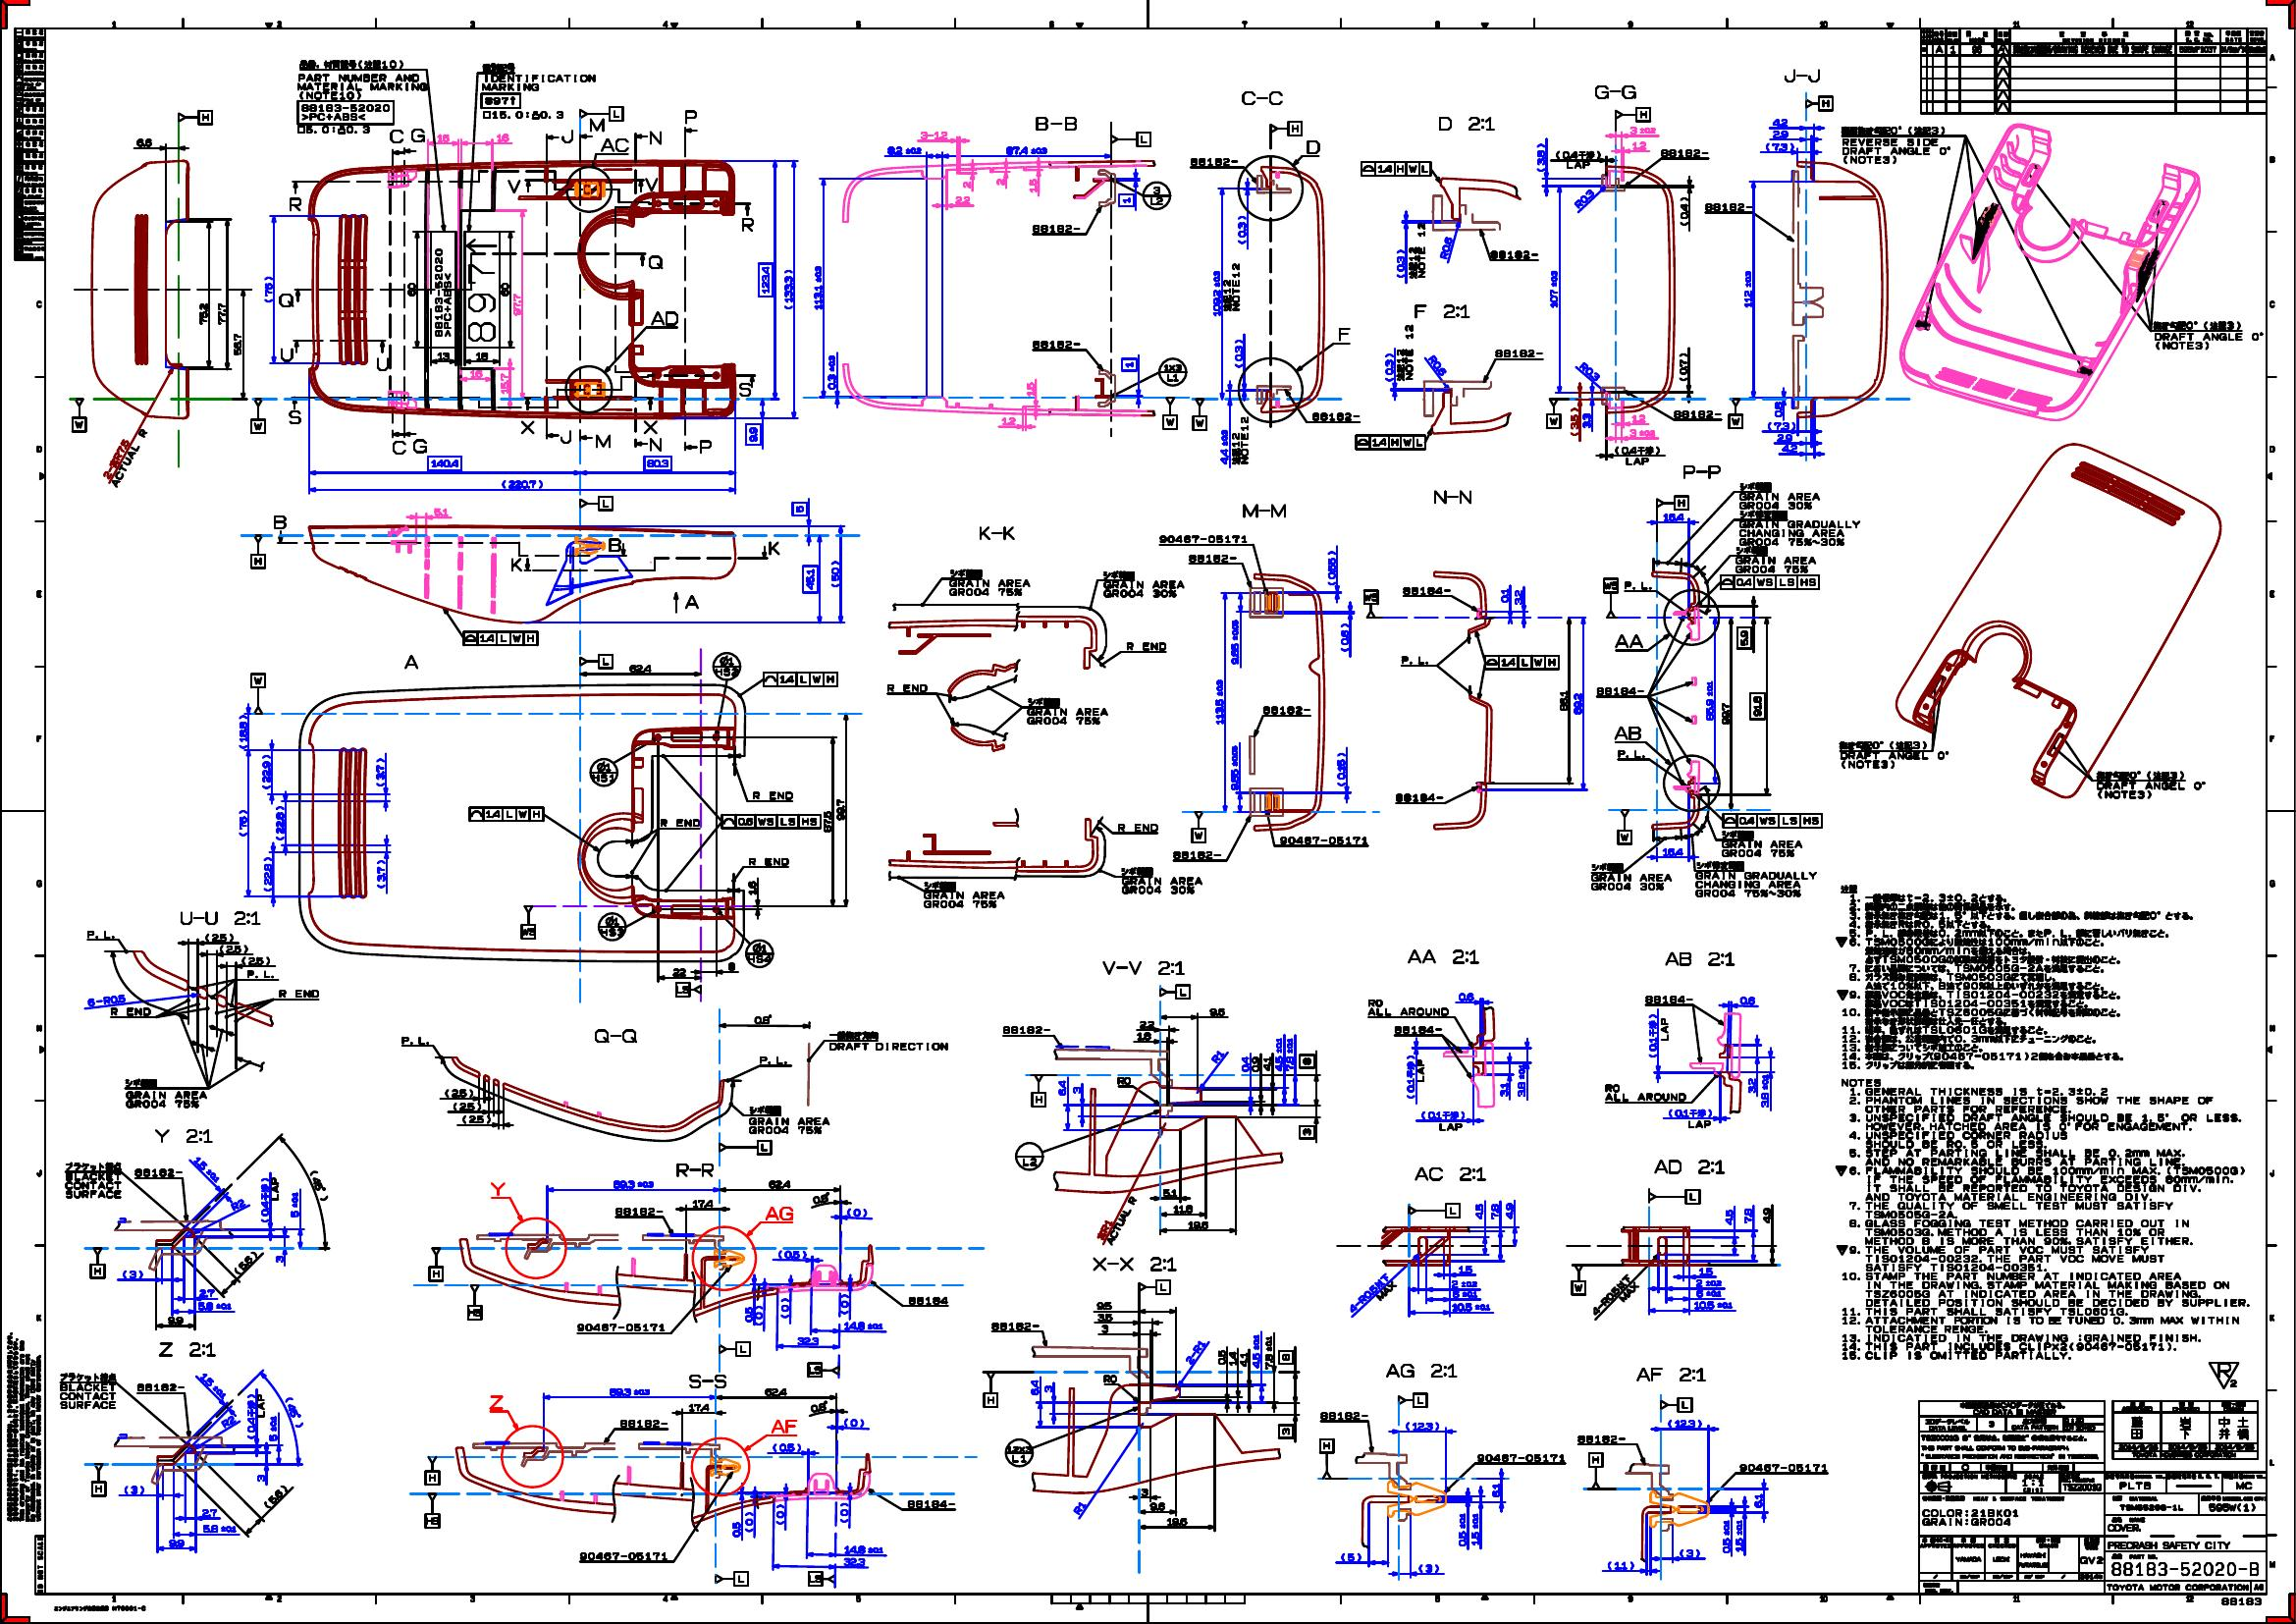anntotation_text: (1834, 1076, 2252, 1360), (1832, 882, 2196, 1070), (295, 56, 429, 134), (5, 1332, 42, 1522), (480, 63, 597, 121), (1693, 861, 1818, 898), (1739, 510, 1860, 547), (1841, 127, 1952, 165), (2094, 768, 2208, 798), (2152, 320, 2264, 350), (1838, 738, 1950, 768), (827, 1028, 950, 1051), (123, 1077, 207, 1109), (1590, 861, 1672, 891), (748, 1104, 831, 1134), (1119, 866, 1203, 895), (949, 568, 1031, 596), (1103, 569, 1186, 598), (922, 881, 1005, 909), (1739, 482, 1822, 508), (1734, 547, 1816, 573), (1026, 698, 1108, 724), (58, 1373, 116, 1410), (63, 1162, 121, 1199), (1722, 831, 1802, 858), (1718, 575, 1818, 591), (1100, 958, 1186, 975), (1367, 998, 1451, 1016), (1604, 1083, 1688, 1100), (1384, 1360, 1458, 1380), (1723, 812, 1823, 826), (1664, 949, 1736, 968), (91, 445, 156, 466), (1651, 1158, 1727, 1176), (1342, 1287, 1400, 1309), (179, 909, 260, 924), (1407, 947, 1479, 965), (1414, 1165, 1486, 1183), (1635, 1366, 1706, 1383), (720, 816, 820, 828), (1087, 1207, 1145, 1229), (1091, 1257, 1177, 1271), (462, 631, 538, 647), (469, 805, 543, 821), (156, 1339, 216, 1359), (1354, 434, 1426, 450), (1360, 160, 1432, 176), (1583, 1290, 1641, 1309), (1483, 654, 1560, 668), (1395, 323, 1414, 380), (764, 671, 838, 685), (1412, 302, 1470, 320), (1437, 114, 1495, 132), (155, 1127, 213, 1144), (1421, 1109, 1465, 1132), (1613, 445, 1660, 466), (1014, 1141, 1045, 1172), (1409, 223, 1426, 279), (1221, 262, 1240, 313), (1230, 415, 1249, 466), (574, 1322, 666, 1332), (1555, 149, 1600, 170), (1158, 533, 1247, 543), (580, 1550, 669, 1561), (1476, 1452, 1565, 1462), (588, 758, 620, 787), (2208, 1360, 2242, 1388), (1648, 1014, 1669, 1058), (246, 1392, 265, 1439), (1158, 357, 1188, 387), (711, 650, 741, 680), (1405, 1055, 1425, 1100), (1667, 1109, 1713, 1128), (1005, 1438, 1033, 1468), (1142, 181, 1172, 209), (597, 912, 627, 940), (1407, 1202, 1460, 1218), (592, 1026, 639, 1044), (262, 1176, 279, 1223), (1033, 114, 1079, 132), (745, 939, 773, 967), (1279, 835, 1368, 844), (1739, 1462, 1829, 1471), (1593, 83, 1637, 100), (1240, 503, 1288, 518), (718, 1141, 771, 1155), (673, 1160, 715, 1178), (578, 105, 624, 121), (1648, 1190, 1699, 1204), (1681, 464, 1722, 482), (1318, 1438, 1335, 1478), (1240, 90, 1284, 105), (53, 1605, 148, 1612), (1432, 489, 1474, 504), (1602, 576, 1618, 617), (249, 673, 265, 714), (35, 1534, 46, 1594), (1614, 105, 1650, 123), (977, 524, 1015, 540), (1110, 130, 1149, 146), (1031, 221, 1080, 234), (90, 1462, 107, 1496), (982, 1371, 998, 1408), (177, 109, 213, 125), (1616, 808, 1632, 844), (466, 1283, 481, 1318), (806, 1360, 838, 1378), (423, 1492, 439, 1527), (1161, 397, 1179, 429), (1270, 120, 1302, 137), (249, 534, 265, 569), (1783, 69, 1822, 83), (1400, 585, 1451, 596), (989, 1320, 1040, 1330), (1319, 1410, 1370, 1420), (613, 1206, 664, 1216), (1576, 1434, 1627, 1445), (1643, 993, 1693, 1004), (70, 399, 86, 432), (249, 399, 265, 432), (427, 1248, 443, 1281), (715, 1571, 748, 1587), (1029, 1074, 1045, 1107), (1660, 1397, 1693, 1413), (1191, 397, 1207, 431), (520, 905, 536, 939), (1189, 812, 1207, 842), (1597, 685, 1646, 696), (1588, 1452, 1602, 1489), (1031, 339, 1080, 350), (1495, 348, 1544, 359), (1490, 248, 1539, 258), (1660, 148, 1709, 158), (134, 1167, 183, 1178), (648, 311, 680, 327), (1704, 202, 1751, 213), (1727, 397, 1743, 429), (1613, 633, 1644, 649), (1263, 705, 1310, 715), (1191, 156, 1238, 167), (687, 1374, 727, 1387), (1613, 724, 1641, 742), (764, 1204, 792, 1222), (1003, 1025, 1049, 1035), (2219, 1596, 2264, 1606), (1546, 399, 1562, 429), (423, 1455, 439, 1485), (1569, 1265, 1585, 1295), (90, 1248, 105, 1278), (599, 137, 629, 153), (580, 496, 613, 510), (1657, 496, 1690, 510), (580, 654, 613, 668), (1393, 793, 1444, 801), (1172, 851, 1223, 859), (1188, 554, 1238, 562), (1124, 640, 1166, 650), (1138, 1280, 1170, 1294), (1398, 1392, 1426, 1408), (750, 789, 792, 800), (747, 856, 789, 866), (1672, 411, 1722, 420), (906, 1499, 956, 1508), (1393, 1025, 1442, 1033), (86, 995, 126, 1005), (720, 1341, 750, 1355), (806, 1571, 836, 1585), (1159, 984, 1189, 998), (1806, 95, 1832, 111), (1363, 591, 1379, 617), (620, 1418, 668, 1427), (771, 1418, 798, 1434), (137, 1383, 184, 1392), (1312, 411, 1360, 420), (675, 981, 701, 997), (661, 817, 699, 828), (885, 682, 928, 691), (109, 1007, 151, 1016), (278, 990, 320, 998), (86, 928, 116, 940), (908, 1295, 949, 1304), (1117, 823, 1158, 831), (757, 1055, 789, 1065), (1616, 749, 1646, 759), (1623, 580, 1651, 591), (399, 1035, 430, 1044), (1400, 656, 1430, 664), (559, 429, 574, 445), (596, 431, 611, 446), (641, 420, 657, 436), (646, 438, 662, 453), (697, 438, 713, 453), (738, 381, 754, 397), (646, 255, 662, 271), (740, 216, 755, 232), (413, 438, 429, 453), (388, 439, 404, 455), (376, 357, 392, 373), (279, 346, 295, 362), (488, 1394, 504, 1410), (288, 410, 304, 425), (271, 513, 286, 529), (404, 654, 420, 670), (506, 557, 522, 573), (608, 536, 624, 552), (683, 594, 699, 610), (766, 540, 782, 555), (286, 195, 302, 211), (388, 128, 404, 144), (411, 128, 427, 144), (506, 178, 522, 193), (560, 128, 576, 144), (588, 118, 604, 134), (646, 130, 662, 146), (683, 107, 699, 123), (278, 292, 293, 308), (1305, 139, 1321, 155), (488, 1181, 506, 1195), (246, 968, 274, 977), (520, 420, 536, 434), (1337, 325, 1351, 341), (645, 176, 659, 192)
dimension_text: (427, 455, 462, 471), (812, 264, 822, 311), (643, 455, 671, 473), (757, 262, 771, 297), (499, 478, 545, 489), (1214, 678, 1224, 724), (1230, 619, 1240, 664), (1212, 271, 1223, 316), (782, 269, 792, 311), (195, 1380, 230, 1392), (1217, 429, 1230, 464), (613, 1178, 653, 1188), (1693, 1299, 1734, 1309), (843, 1320, 884, 1330), (843, 1543, 884, 1554), (1230, 743, 1238, 791), (1750, 692, 1765, 719), (1743, 269, 1753, 308), (803, 564, 817, 592), (745, 422, 761, 446), (1326, 550, 1337, 587), (260, 752, 271, 789), (826, 353, 836, 390), (1005, 146, 1049, 155), (1337, 750, 1347, 786), (1405, 1420, 1440, 1431), (608, 1387, 650, 1396), (197, 1301, 232, 1311), (313, 1167, 323, 1202), (237, 714, 248, 749), (1706, 680, 1715, 721), (190, 1164, 223, 1174), (1451, 1302, 1490, 1311), (1549, 269, 1558, 308), (1569, 406, 1579, 438), (288, 1396, 299, 1427), (230, 1258, 262, 1269), (1665, 1418, 1702, 1427), (1737, 626, 1751, 649), (1606, 1559, 1635, 1570), (260, 1492, 290, 1503), (204, 932, 234, 942), (376, 859, 386, 889), (1678, 352, 1688, 381), (1237, 214, 1247, 244), (202, 1524, 237, 1533), (274, 805, 283, 840), (887, 146, 922, 155), (444, 1088, 473, 1098), (453, 1100, 481, 1111), (462, 1114, 490, 1125), (1765, 142, 1794, 153), (237, 808, 248, 837), (1233, 339, 1244, 367), (262, 274, 272, 302), (1760, 1074, 1769, 1107), (1516, 1065, 1525, 1098), (1722, 1519, 1730, 1552), (1458, 1512, 1467, 1545), (1265, 1336, 1274, 1369), (1251, 1334, 1260, 1367), (768, 1178, 791, 1190), (1397, 248, 1405, 279), (1340, 622, 1349, 652), (1535, 142, 1544, 172), (1679, 195, 1688, 225), (771, 1443, 801, 1452), (241, 956, 271, 965), (629, 663, 653, 673), (1572, 691, 1583, 715), (1576, 366, 1600, 376), (1425, 360, 1449, 371), (1300, 1053, 1316, 1069), (1451, 1280, 1479, 1288), (1451, 1290, 1479, 1299), (1298, 1125, 1316, 1139), (778, 1250, 806, 1258), (831, 559, 840, 587), (1767, 422, 1795, 431), (220, 944, 248, 953), (376, 758, 385, 786), (1628, 429, 1657, 438), (1384, 353, 1393, 381), (921, 130, 949, 139), (796, 1336, 819, 1346), (843, 1555, 866, 1566), (123, 1483, 146, 1494), (1440, 236, 1451, 258), (216, 302, 227, 325), (1275, 1037, 1282, 1070), (1286, 1037, 1293, 1070), (1736, 1519, 1743, 1552), (1472, 1512, 1479, 1545), (264, 858, 271, 891), (1630, 127, 1657, 135), (1182, 1346, 1209, 1355), (1695, 1290, 1722, 1299), (269, 1415, 278, 1441), (290, 1192, 299, 1218), (1172, 1202, 1193, 1213), (847, 1207, 868, 1218), (1679, 1548, 1700, 1559), (1418, 1562, 1439, 1573), (1279, 1424, 1295, 1438), (1121, 357, 1137, 371), (812, 1192, 829, 1204), (836, 798, 845, 823), (791, 503, 808, 515), (1572, 193, 1597, 202), (764, 1387, 789, 1396), (1117, 193, 1135, 206), (1693, 1280, 1723, 1287), (1664, 511, 1683, 522), (690, 1199, 713, 1207), (822, 810, 831, 833), (1722, 701, 1730, 724), (687, 1403, 710, 1411), (775, 1503, 783, 1526), (121, 1269, 144, 1278), (499, 373, 508, 395), (232, 332, 241, 355), (199, 302, 207, 325), (513, 292, 522, 315), (1277, 1350, 1293, 1362), (1188, 1220, 1209, 1229), (1056, 1079, 1066, 1097), (754, 1014, 771, 1025), (840, 1294, 848, 1315), (780, 1297, 789, 1318), (1558, 689, 1567, 710), (1340, 1552, 1361, 1561), (1166, 1517, 1188, 1526), (810, 1401, 827, 1411), (843, 1418, 864, 1427), (840, 1501, 848, 1522), (745, 1512, 754, 1533), (731, 1520, 741, 1538), (220, 1417, 237, 1427), (135, 137, 153, 148), (1664, 847, 1683, 856), (1723, 1209, 1734, 1225), (1458, 991, 1474, 1002), (1209, 1051, 1224, 1062), (1753, 1492, 1764, 1508), (1149, 1501, 1165, 1512), (167, 1315, 183, 1325), (199, 1288, 214, 1299), (1028, 178, 1038, 193), (499, 281, 509, 297), (1490, 1202, 1498, 1220), (1474, 1202, 1483, 1220), (1138, 1019, 1156, 1028), (1781, 445, 1799, 453), (1029, 1378, 1038, 1396), (1163, 1186, 1177, 1197), (747, 881, 757, 895), (755, 1304, 762, 1325), (1632, 413, 1646, 424), (495, 132, 509, 142), (436, 132, 450, 142), (474, 350, 488, 360), (1743, 1207, 1751, 1223), (1762, 1207, 1771, 1223), (1748, 1077, 1757, 1093), (1739, 995, 1755, 1004), (1505, 1202, 1514, 1218), (1458, 1265, 1474, 1274), (1251, 1056, 1260, 1072), (1209, 1007, 1224, 1016), (1137, 1032, 1152, 1040), (1116, 1076, 1131, 1084), (432, 506, 448, 515), (1514, 589, 1523, 605), (1776, 432, 1792, 441), (1773, 118, 1788, 127), (1773, 130, 1788, 139), (1632, 141, 1648, 149), (1072, 1503, 1087, 1512), (1238, 1352, 1247, 1367), (1096, 1301, 1112, 1309), (1699, 1267, 1715, 1276), (745, 1306, 754, 1322), (169, 1538, 184, 1547), (230, 1200, 246, 1209), (1583, 413, 1592, 429), (1026, 381, 1035, 397), (1000, 417, 1015, 425), (956, 195, 971, 204), (1500, 1083, 1509, 1097), (673, 967, 687, 975), (1500, 589, 1509, 603), (1491, 1483, 1500, 1497), (1228, 1352, 1237, 1366), (1096, 1313, 1114, 1320), (1103, 1374, 1117, 1383), (202, 1508, 216, 1517), (469, 369, 483, 378), (1242, 1056, 1249, 1072), (1072, 1084, 1082, 1095), (1774, 401, 1781, 417), (408, 281, 415, 297), (437, 352, 450, 360), (1263, 1056, 1270, 1070), (1217, 1350, 1224, 1364), (727, 961, 736, 972), (274, 1253, 283, 1264), (1140, 1487, 1149, 1496), (1100, 1323, 1108, 1332), (256, 1475, 265, 1483), (996, 178, 1005, 186), (963, 181, 971, 188), (1043, 1385, 1051, 1392)
object: (299, 682, 745, 961), (1894, 439, 2224, 800), (306, 156, 738, 420), (1895, 121, 2201, 422), (840, 160, 1158, 418), (884, 603, 1108, 877), (306, 524, 738, 624), (1029, 1345, 1282, 1494), (460, 1232, 877, 1318), (1054, 1044, 1284, 1193), (455, 1441, 871, 1522), (1423, 174, 1525, 434), (1790, 160, 1890, 422), (90, 160, 190, 420), (439, 1056, 734, 1142), (1249, 571, 1330, 835), (1600, 163, 1678, 413), (1650, 559, 1711, 842), (1256, 163, 1325, 413), (1432, 568, 1495, 835), (130, 949, 274, 1028), (1353, 1452, 1448, 1547), (1625, 1462, 1709, 1562), (114, 1432, 235, 1487), (112, 1220, 234, 1271), (1440, 1007, 1497, 1107), (1690, 1011, 1743, 1113), (1379, 1225, 1472, 1267), (1618, 1225, 1709, 1265)
title_block: (1918, 1399, 2266, 1594), (1918, 26, 2266, 112), (14, 26, 46, 260)
